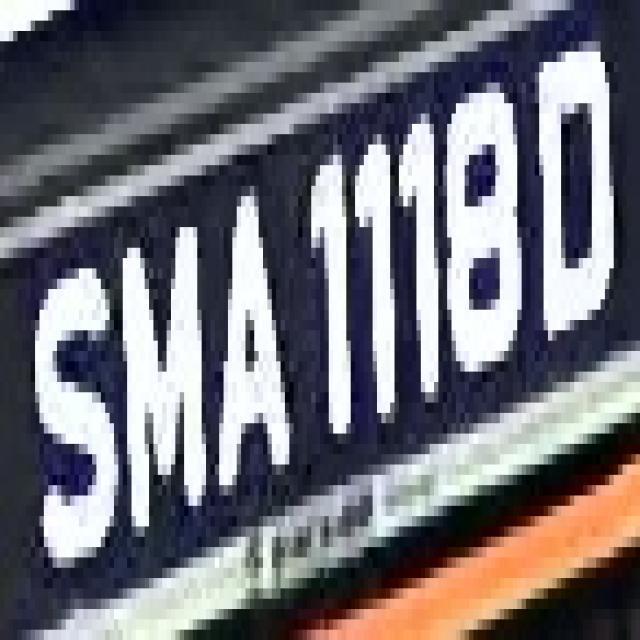1: (302, 113, 350, 496), (394, 62, 438, 444), (355, 103, 395, 454)
8: (434, 62, 526, 392)
A: (193, 144, 298, 537)
D: (530, 31, 622, 372)
M: (105, 196, 206, 547)
S: (22, 227, 118, 588)
